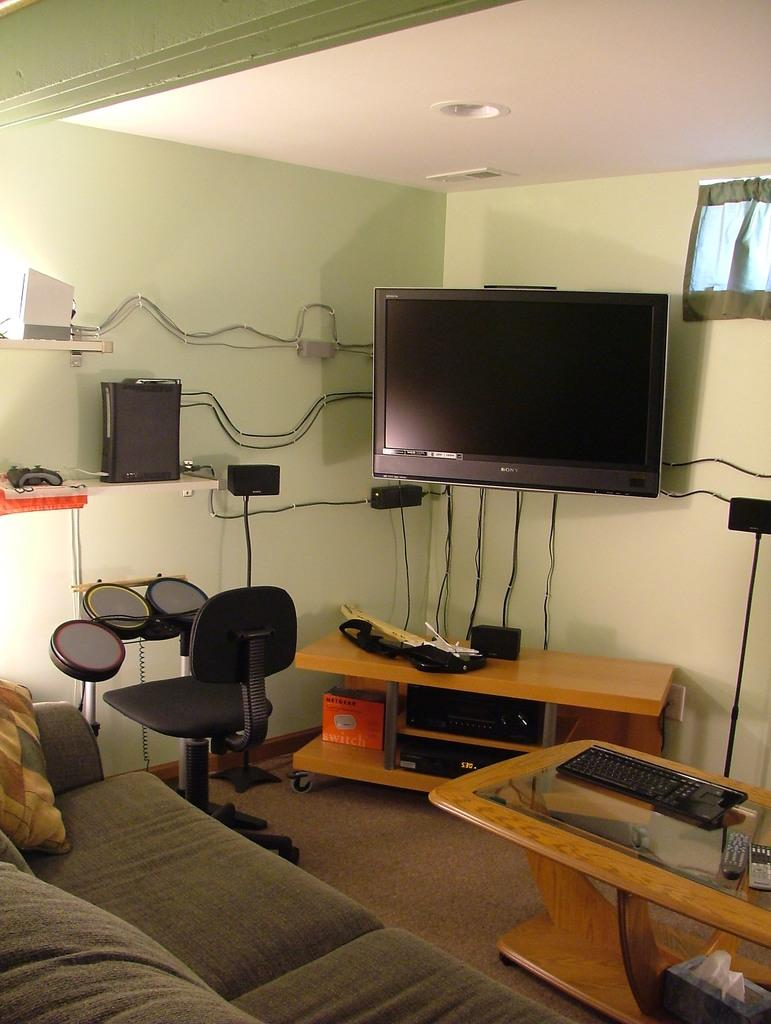Chair: (100, 585, 297, 806)
Computer-monitor: (365, 280, 679, 500), (96, 381, 183, 482)
